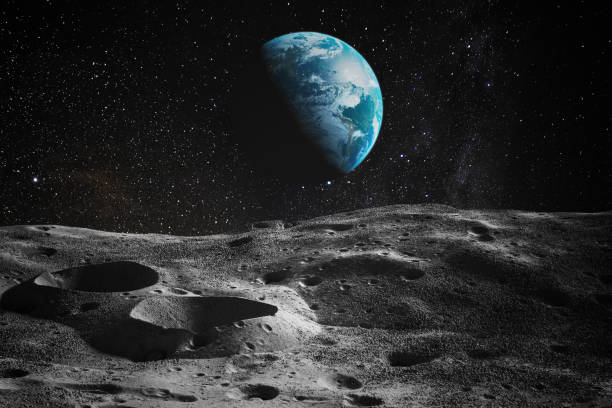crater: (132, 295, 282, 333), (31, 262, 166, 292)
